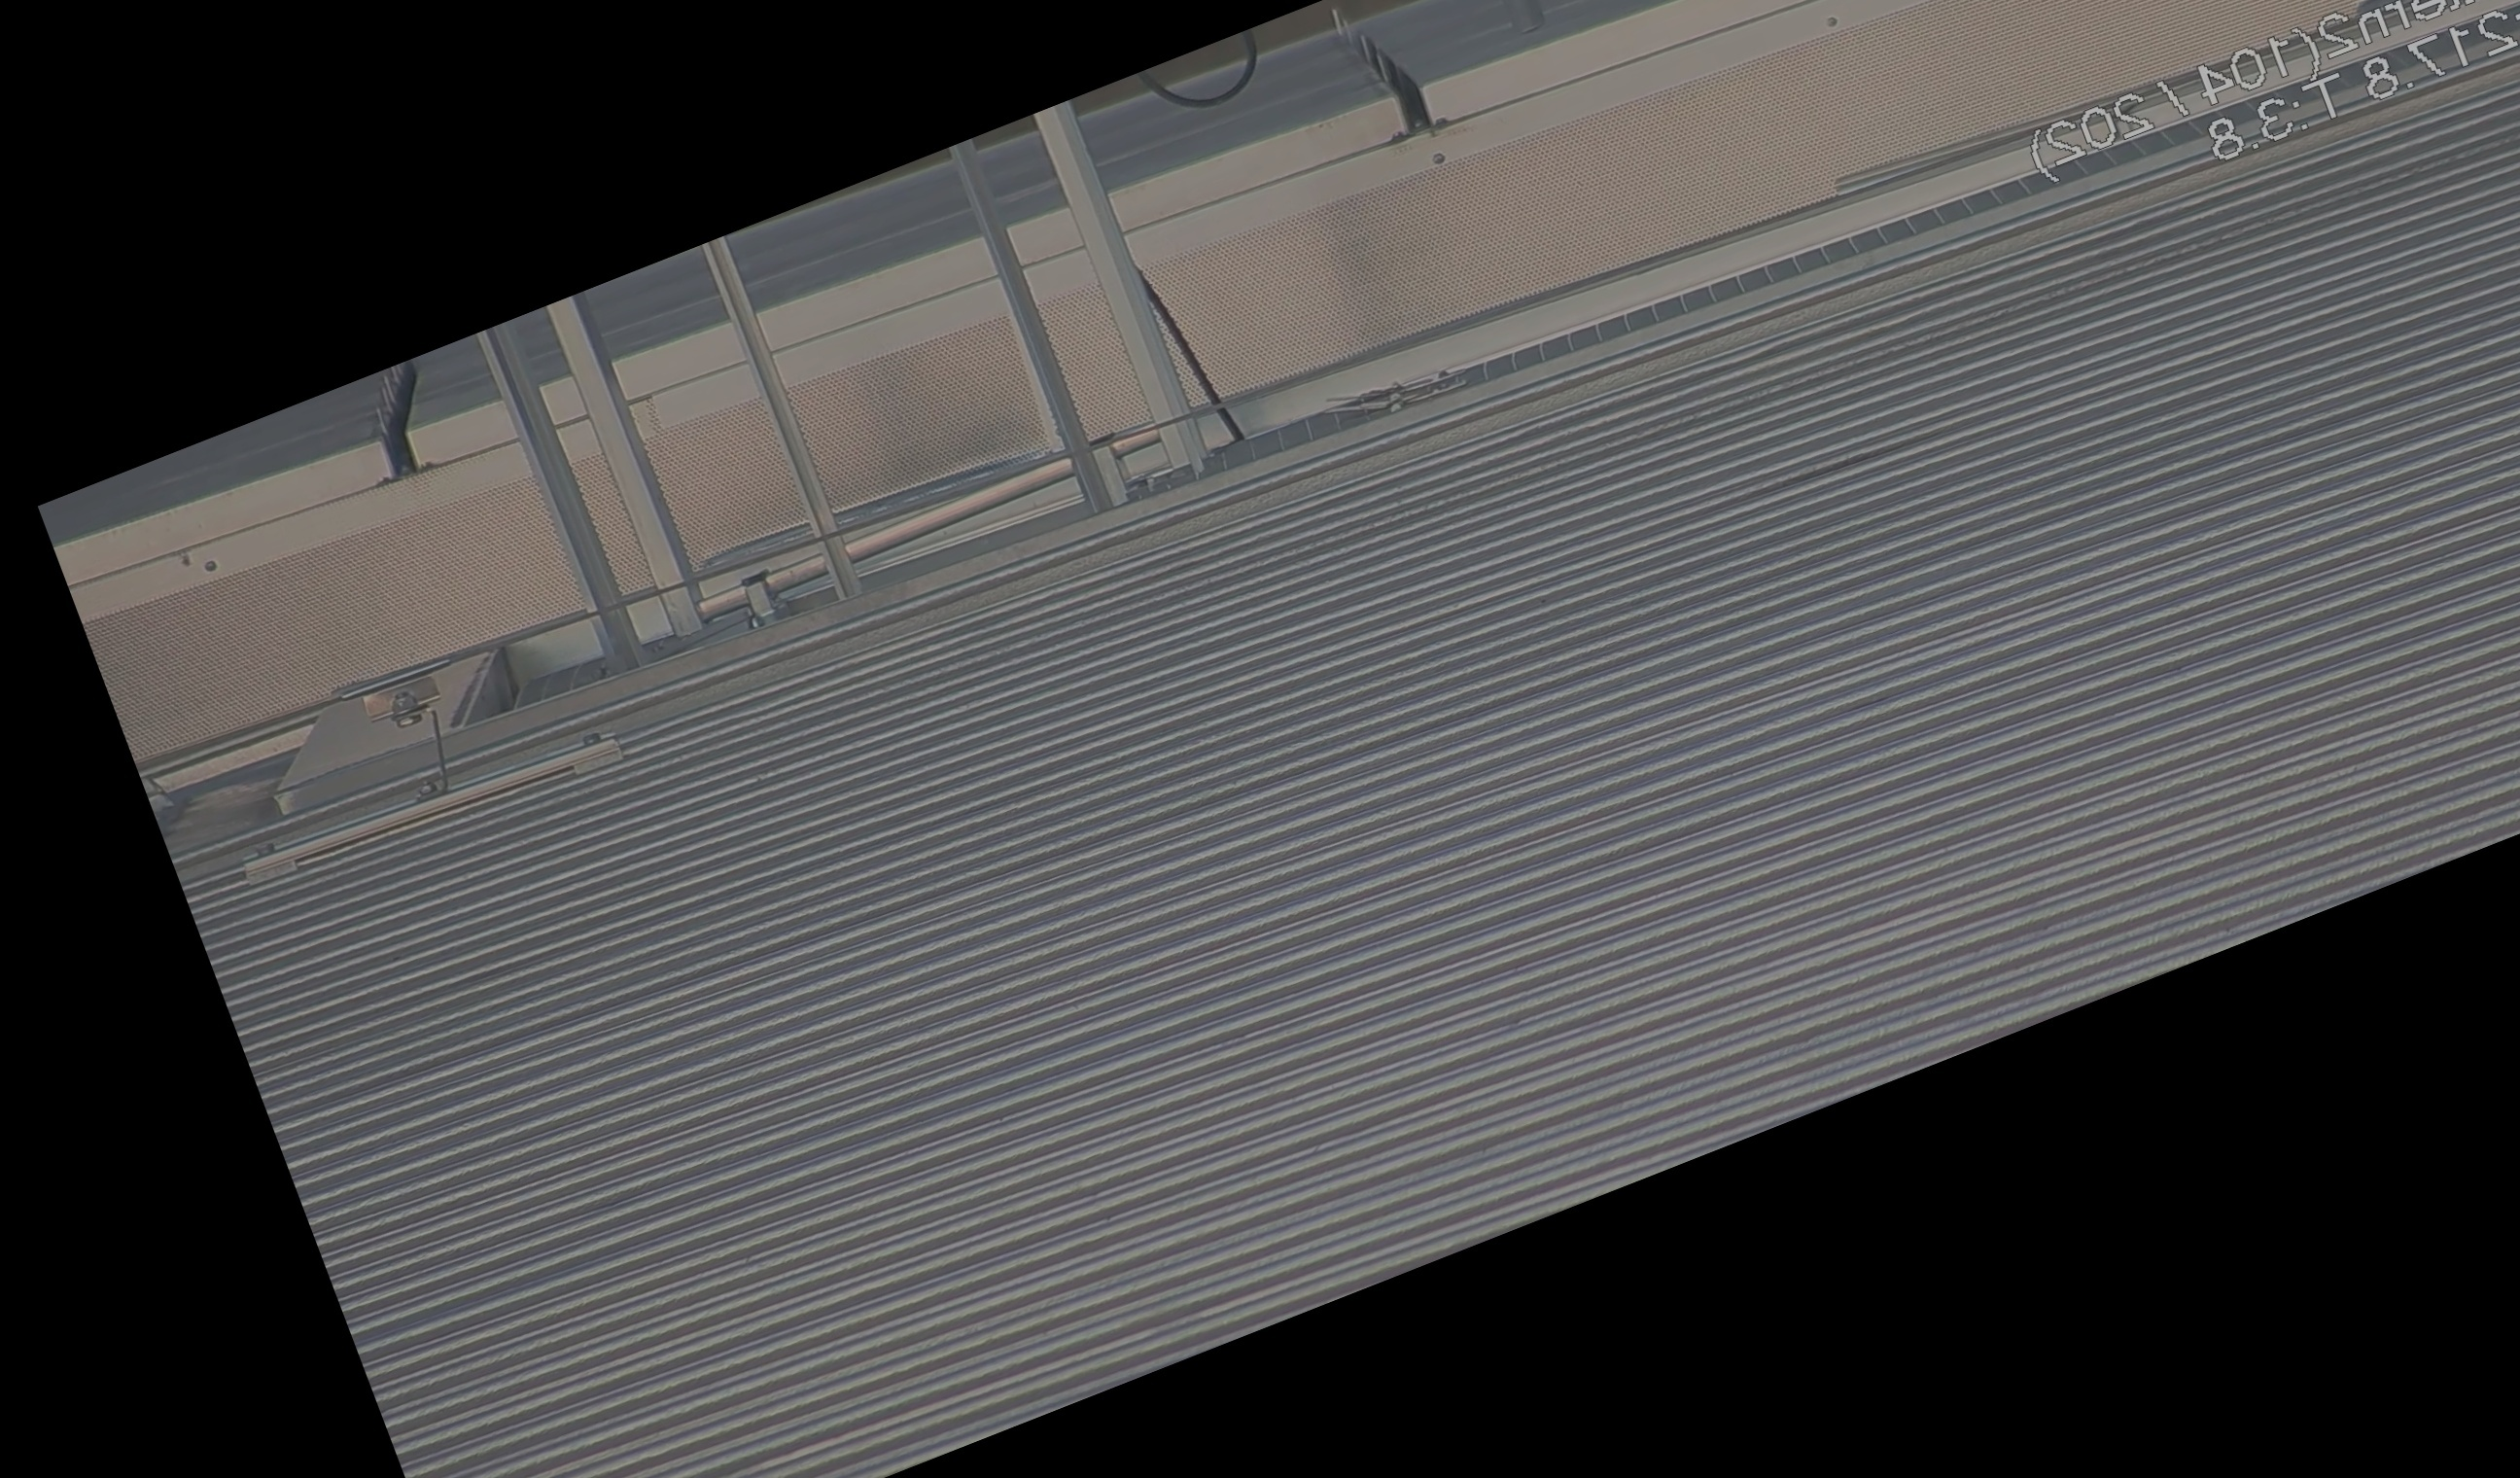Other: (317, 327, 455, 501)
